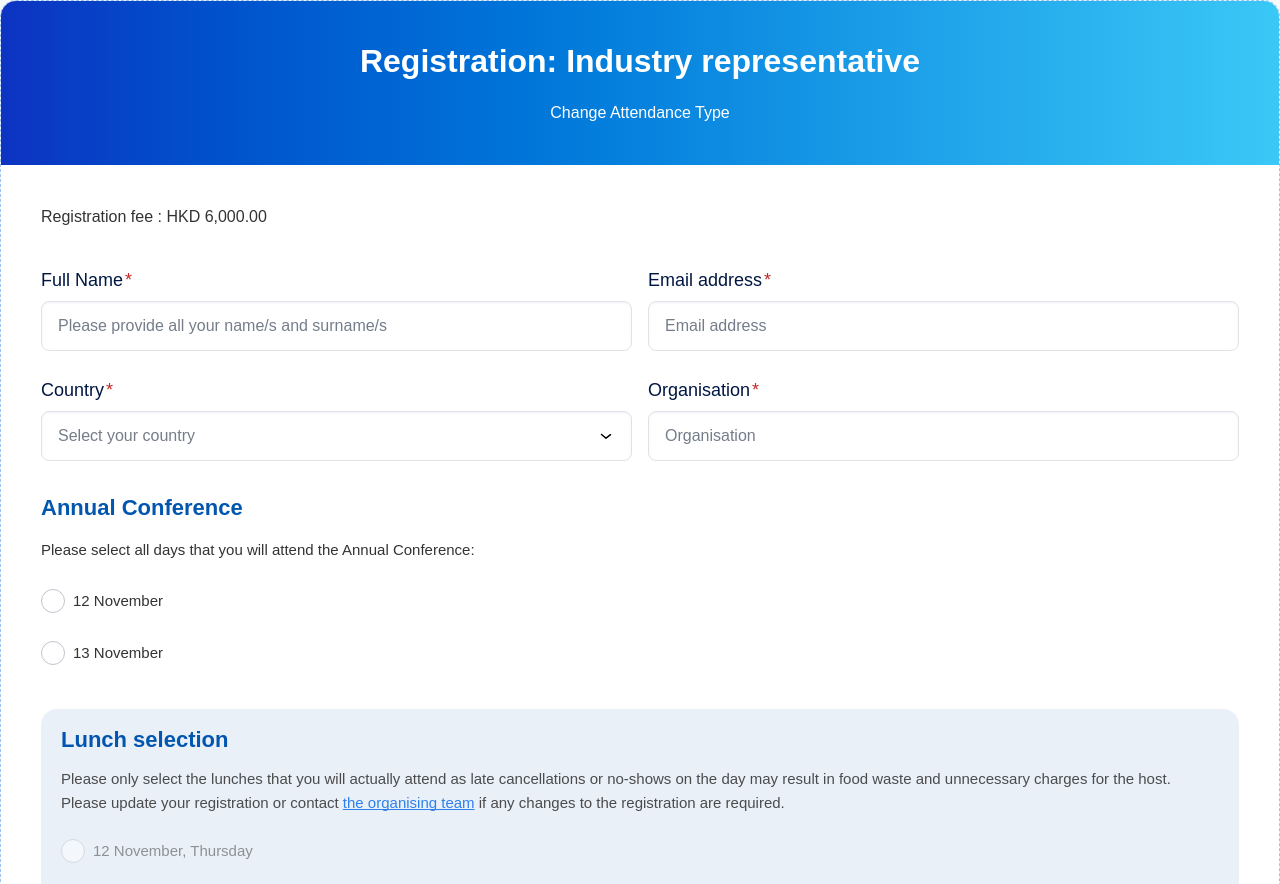
Scenario: StepRegistration › only enables lunch days after the matching conference day is selected
The width and height of the screenshot is (1280, 884).
Check: the button "12 November, Thursday" is disabled, box [61,831,1219,871]
Click the button "12 November" at {"x": 118, "y": 600}, box [41,581,1239,621]
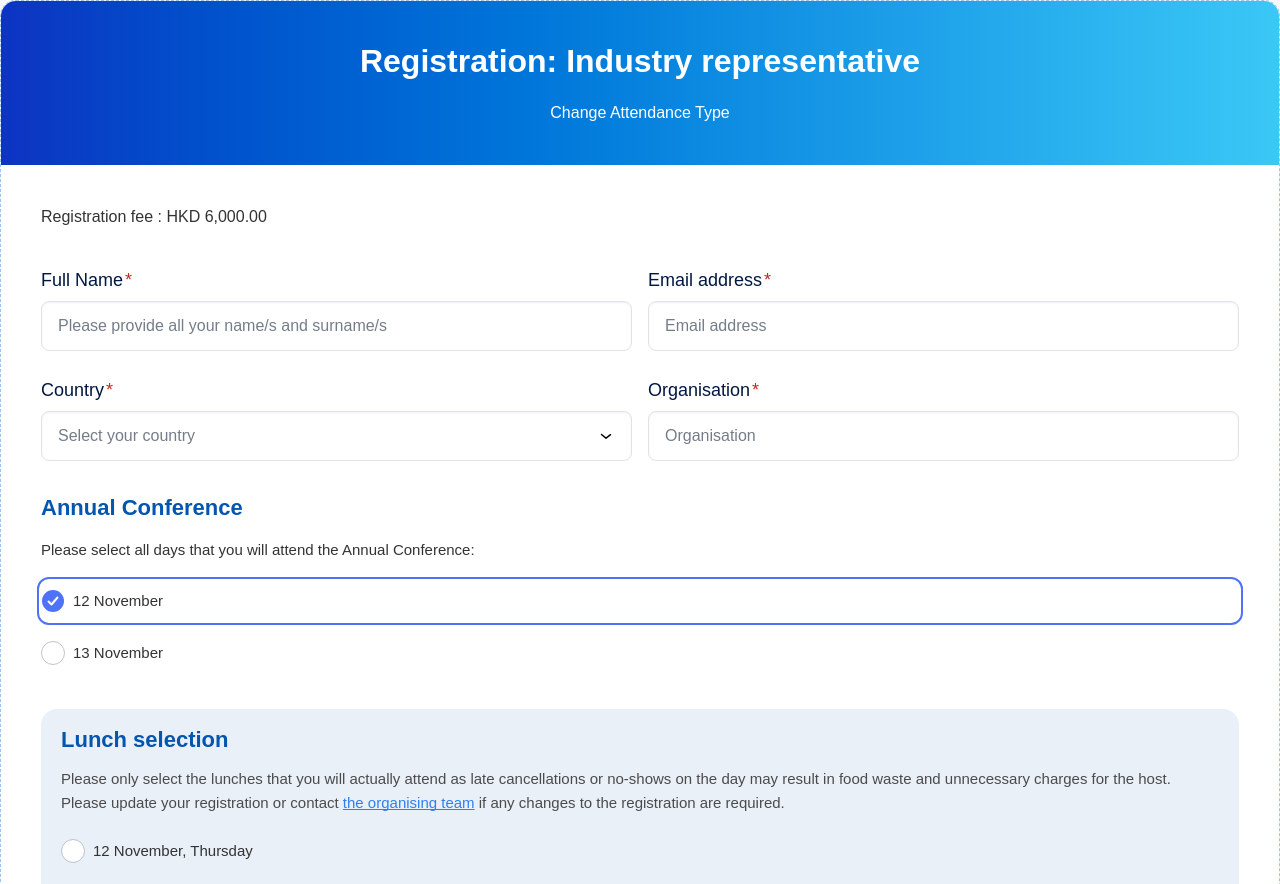
Check: the button "12 November, Thursday" is enabled
Click the button "12 November, Thursday" at {"x": 173, "y": 850}, box [61,831,1219,871]
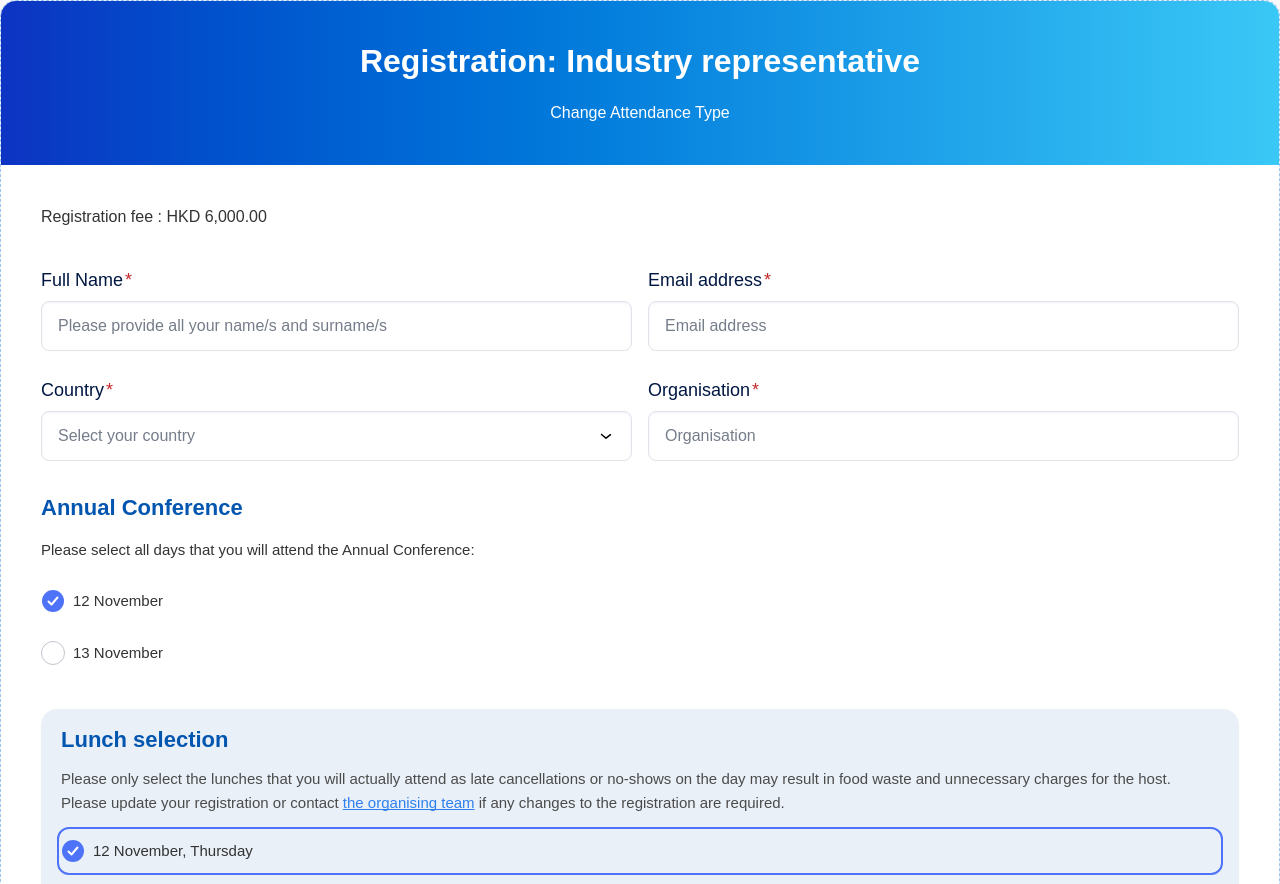
Check: the button "12 November, Thursday" is pressed, box [61,831,1219,871]
Click the button "12 November" at {"x": 118, "y": 600}, box [41,581,1239,621]
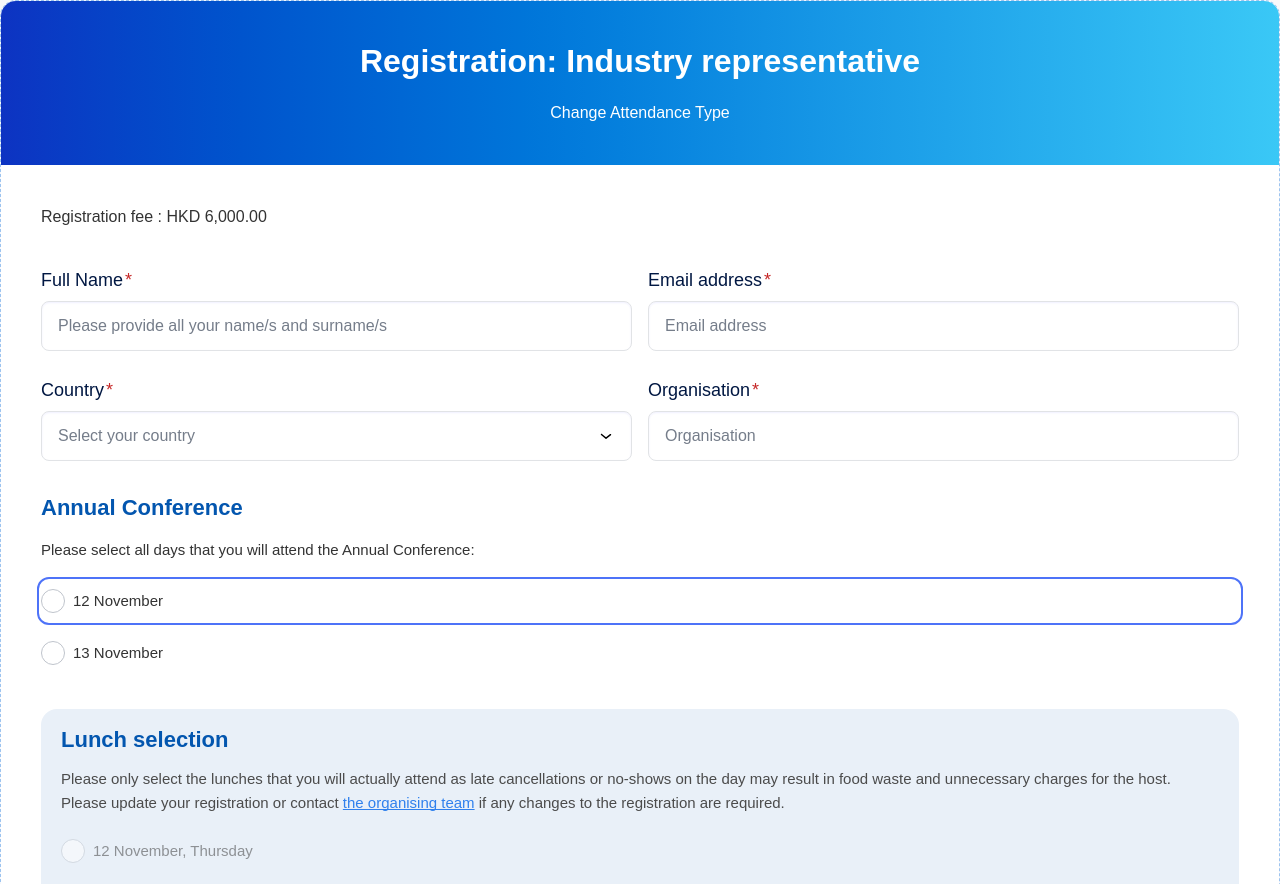
Check: the button "12 November, Thursday" is disabled, box [61,831,1219,871]
